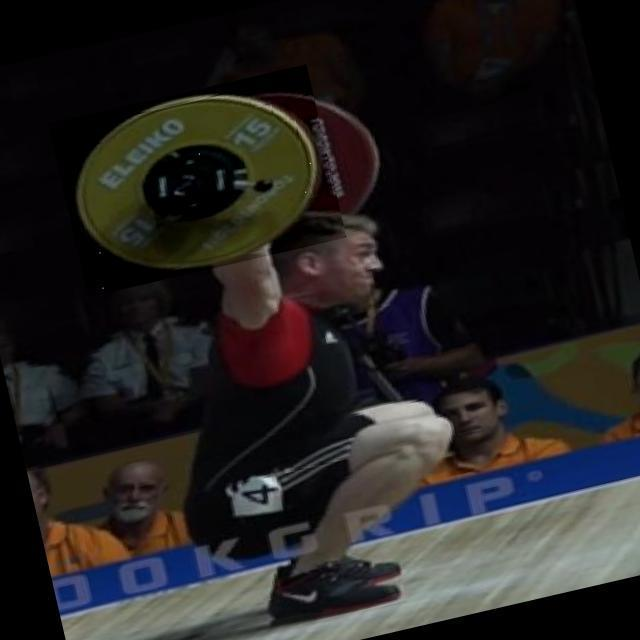barbell: (49, 65, 348, 300)
